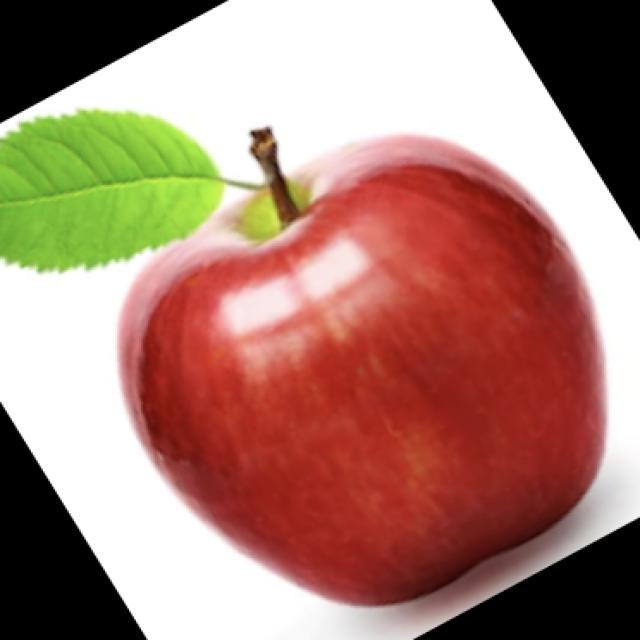Apple: (115, 125, 608, 607)
